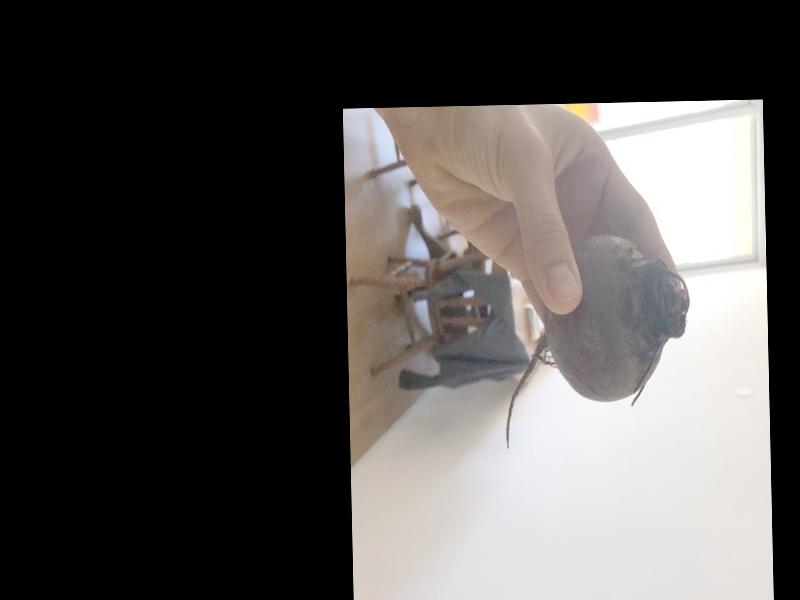Beet: (502, 233, 693, 450)
